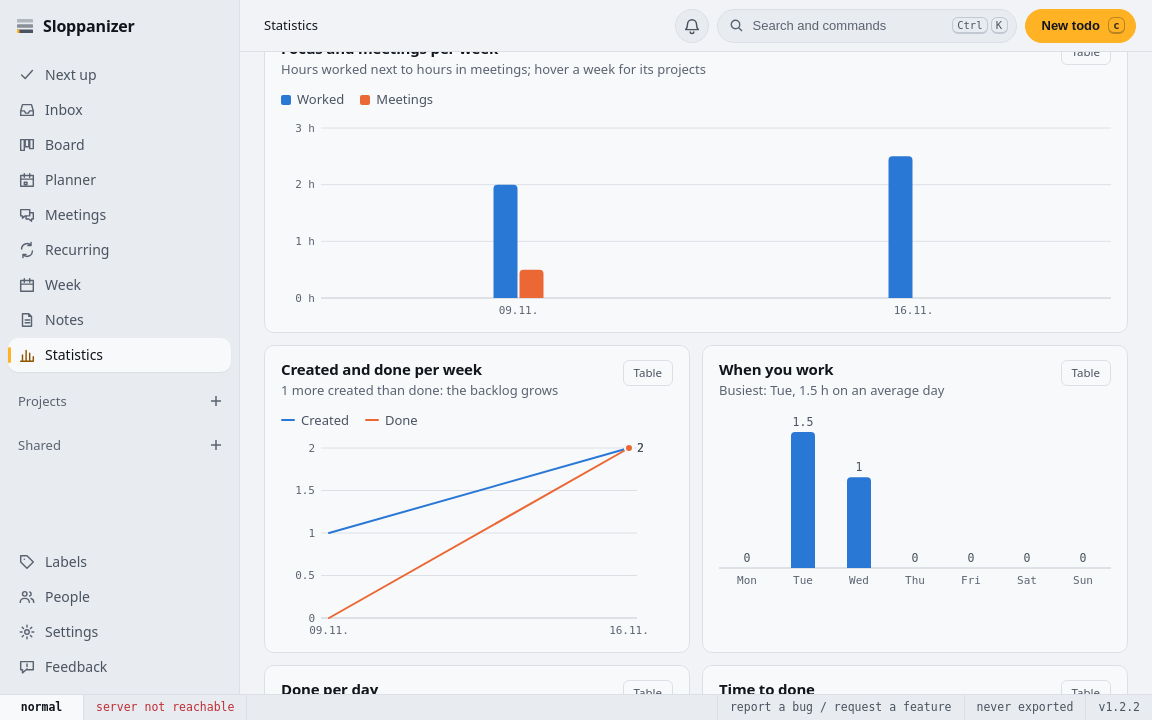
Test: statistics page › shows worked time per weekday as one day's average, never more than a day holds (S5#4)
(page scrolled)
Click the button "Table" next to "Busiest: Tue, 1.5 h on an average day": (1086, 373) [1060,360,1111,386]
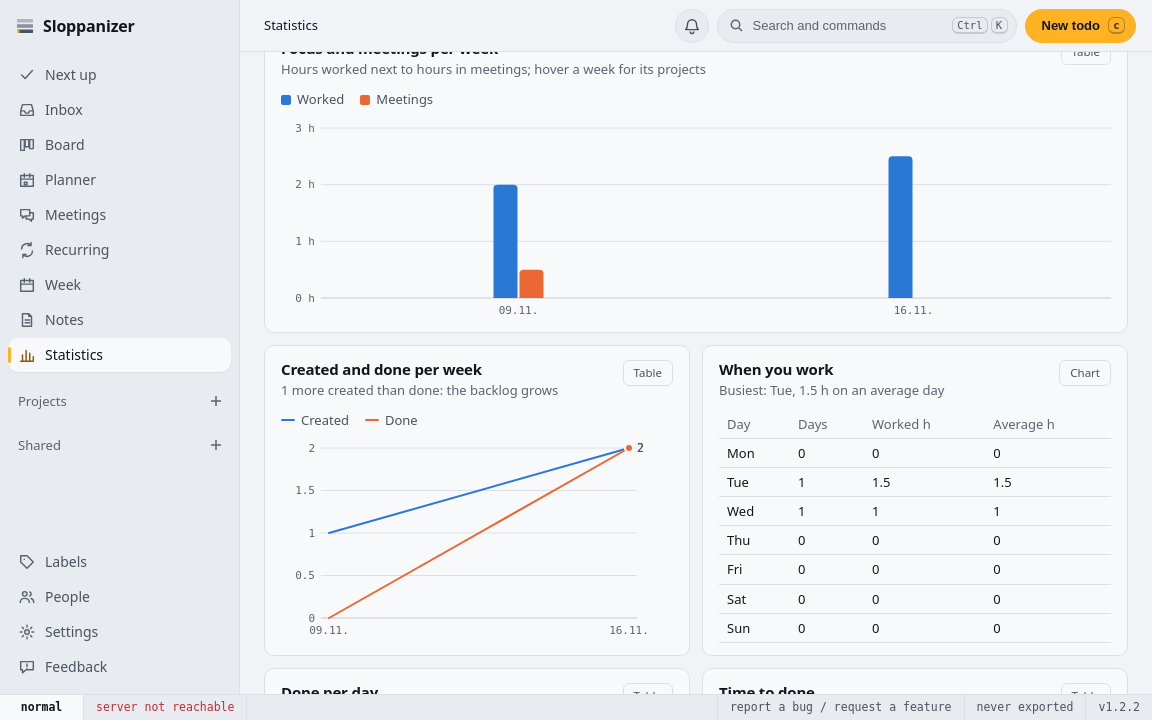
Result: the row "Day Days Worked h Average h" is shown at [719,410,1111,438]
Result: the row "Tue 1 1.5 1.5" is shown at [719,468,1111,497]
Result: the row "Wed 1 1 1" is shown at [719,497,1111,526]
